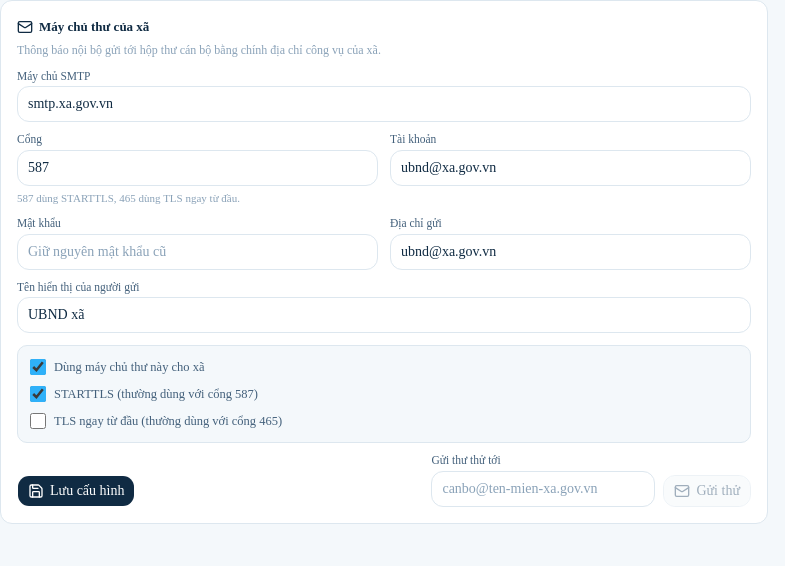
Test: save › any other refusal → the server's own sentence in place
This screenshot has width=785, height=566.
What coordinates should you click on to do the following:
click the button "Lưu cấu hình"
I would click on:
 (76, 491)
Its box is [17, 475, 136, 507].
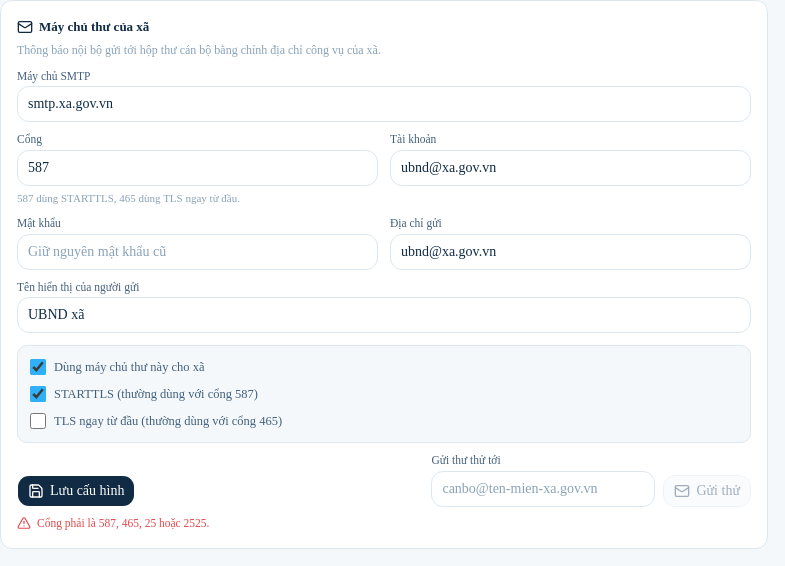
Expected: the message "Cổng phải là 587, 465, 25 hoặc 2525." is shown, [17, 516, 210, 530]
